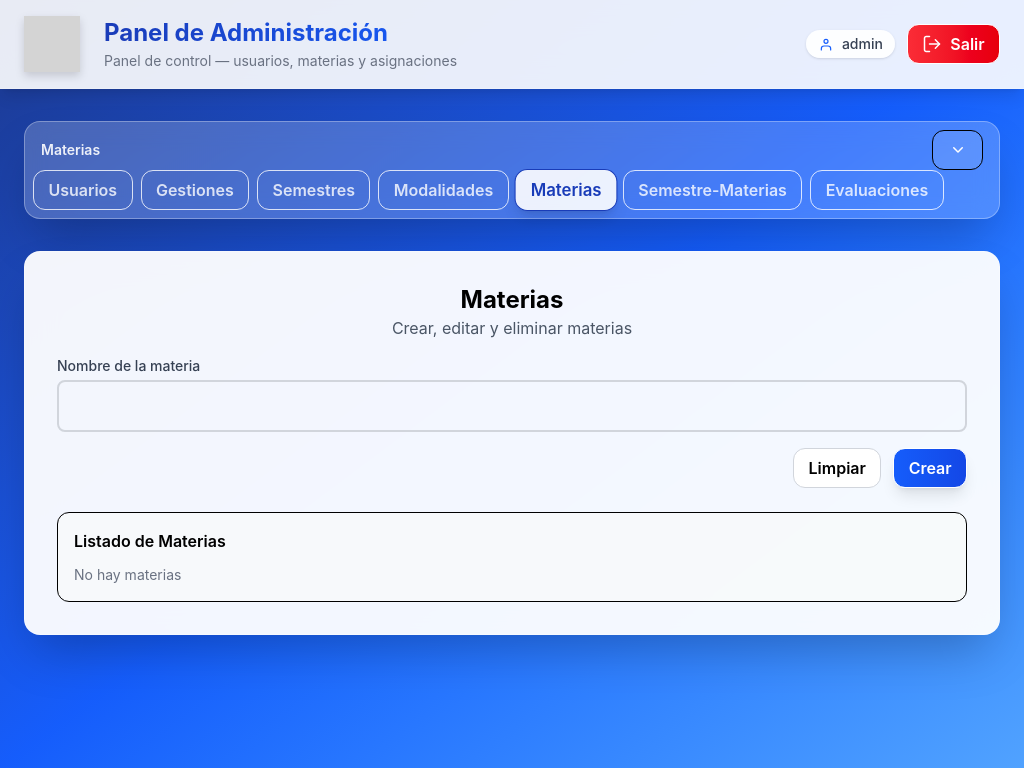
Test case: E2E - Admin Materias (CRUD) › creates a new materia and displays it in the list
Expected: the text "No hay materias" is shown, [74, 566, 181, 583]
Type "Programación I" into the field named "nombre". click: [512, 406]
box: [57, 380, 967, 432]
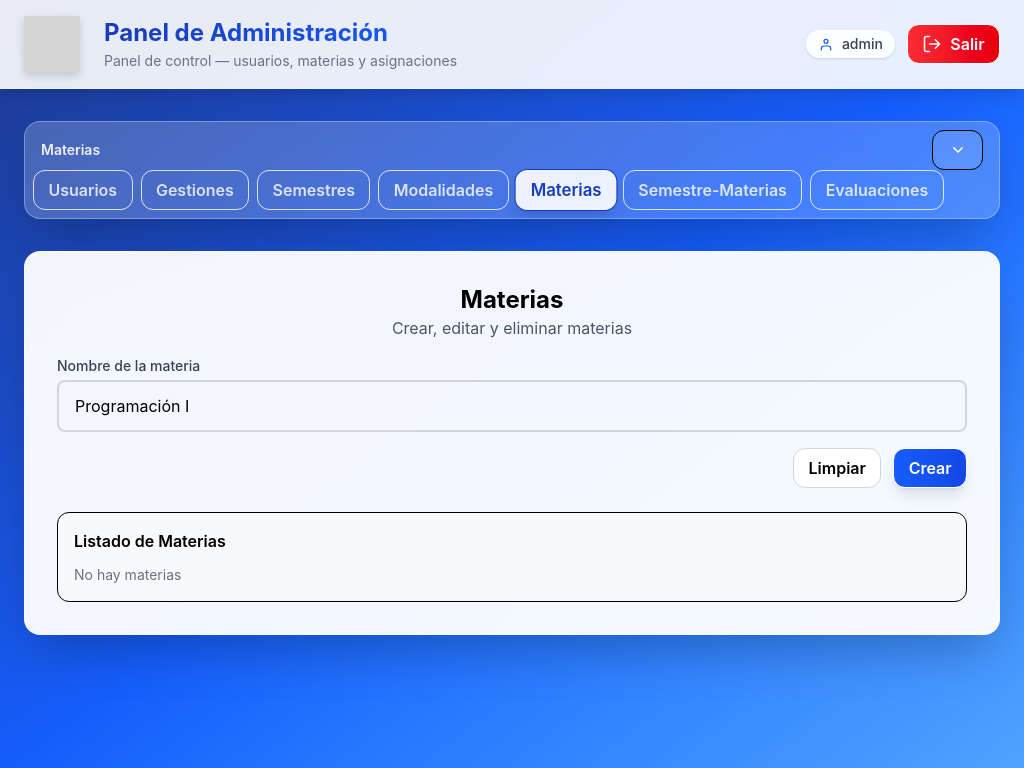
Expected: the submit button is enabled
Click the button "Crear". click: [930, 468]
box: [893, 448, 967, 488]
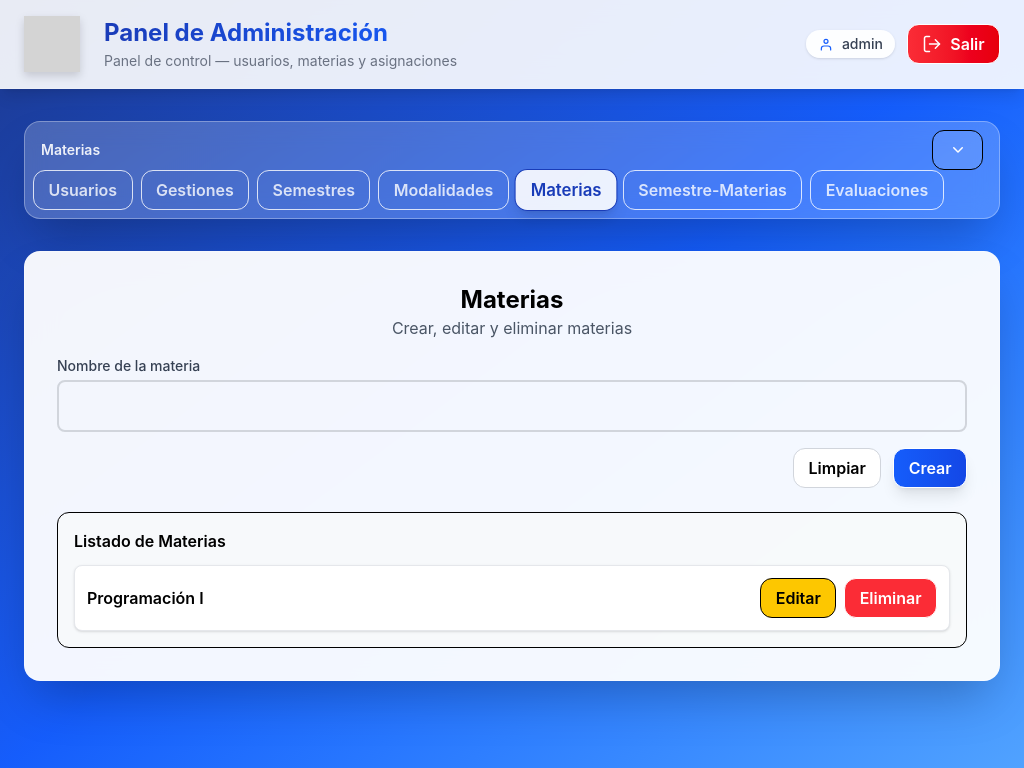
Now the text "Programación I" is shown, box [87, 588, 204, 608]
